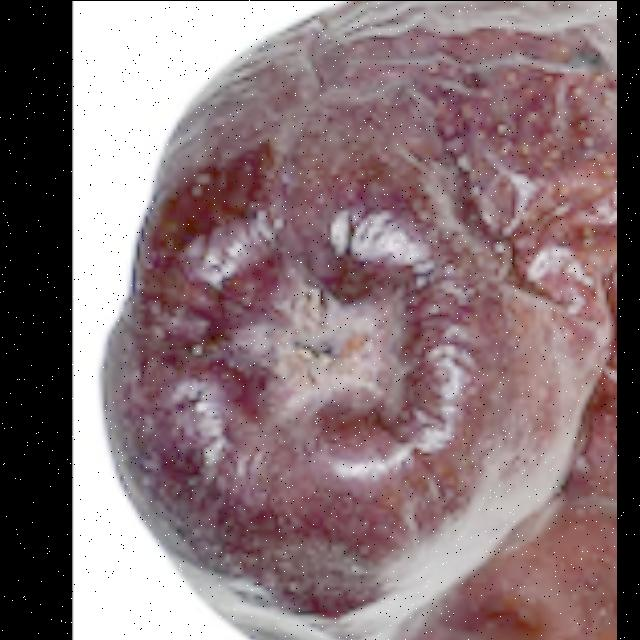Apel Tidak Segar: (114, 0, 616, 640)
